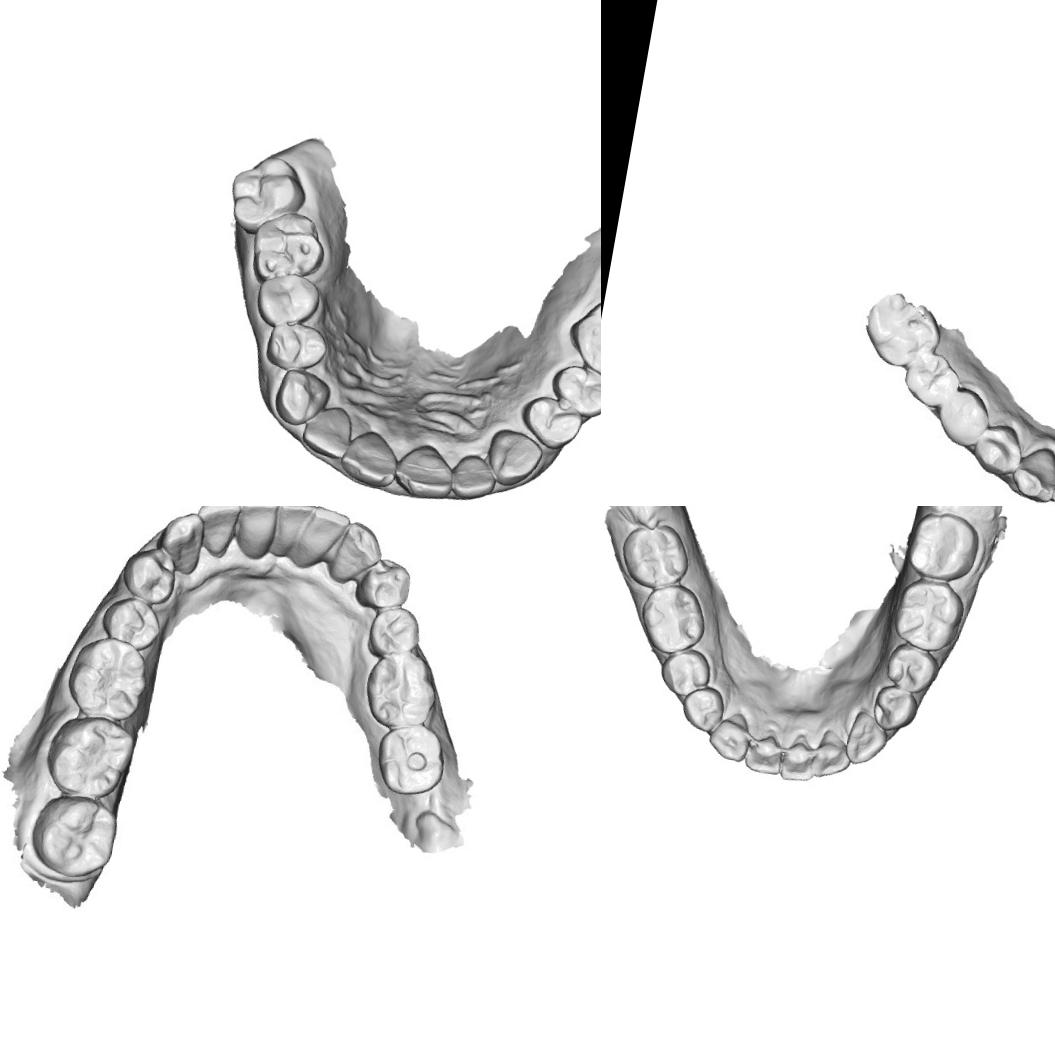canine: (324, 514, 387, 588), (269, 364, 334, 432), (482, 424, 546, 490), (154, 509, 211, 576), (840, 706, 892, 769), (704, 706, 756, 765), (1007, 441, 1055, 498)
incisor: (390, 438, 458, 504), (336, 425, 403, 490), (297, 399, 358, 462), (299, 506, 346, 570), (447, 450, 500, 506), (270, 506, 315, 565), (807, 728, 854, 783), (192, 506, 241, 557), (234, 506, 280, 557), (776, 733, 820, 785), (741, 730, 788, 776)
molar: (221, 148, 313, 244), (32, 792, 120, 884), (245, 206, 331, 294), (856, 287, 941, 376), (47, 711, 130, 799), (68, 633, 146, 724), (632, 576, 714, 661), (364, 648, 444, 734), (888, 574, 970, 657), (901, 506, 984, 585), (614, 516, 696, 595), (371, 722, 448, 804), (561, 292, 601, 385), (902, 348, 959, 407)
premolar: (251, 266, 324, 334), (516, 391, 586, 454), (262, 315, 332, 376), (121, 542, 181, 608), (654, 641, 715, 702), (880, 638, 944, 696), (368, 602, 428, 661), (104, 592, 164, 651), (936, 387, 992, 448), (545, 361, 601, 421), (675, 680, 729, 737), (868, 680, 920, 736), (970, 424, 1024, 476), (360, 557, 412, 610)
